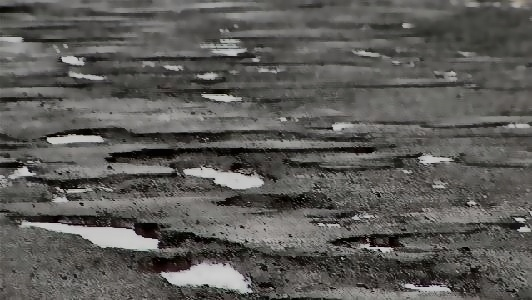pothole: (14, 211, 203, 252), (149, 253, 256, 296), (181, 162, 268, 190), (42, 125, 130, 146), (323, 231, 408, 251), (131, 128, 230, 144), (107, 149, 182, 169)
